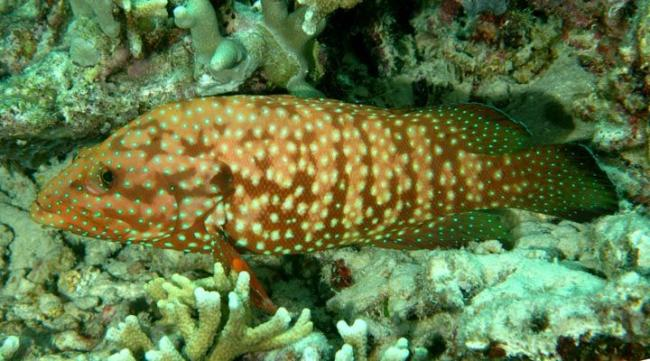fish: (32, 93, 619, 253)
